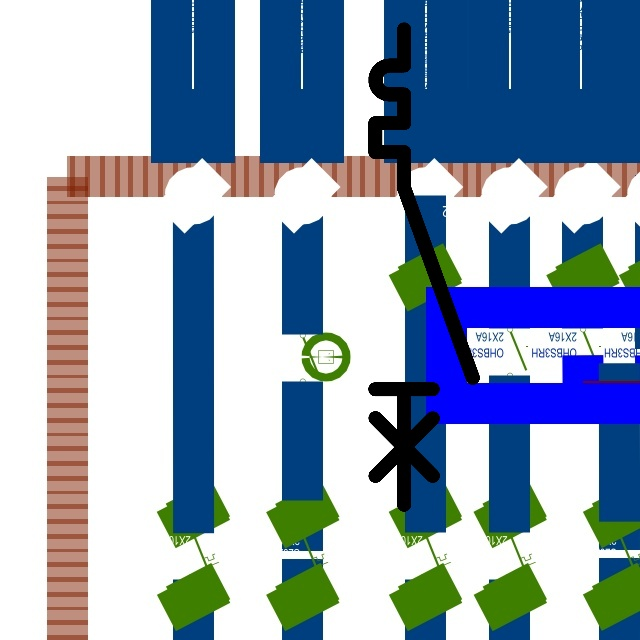interruptor_termomagnetico: (363, 17, 485, 517)
